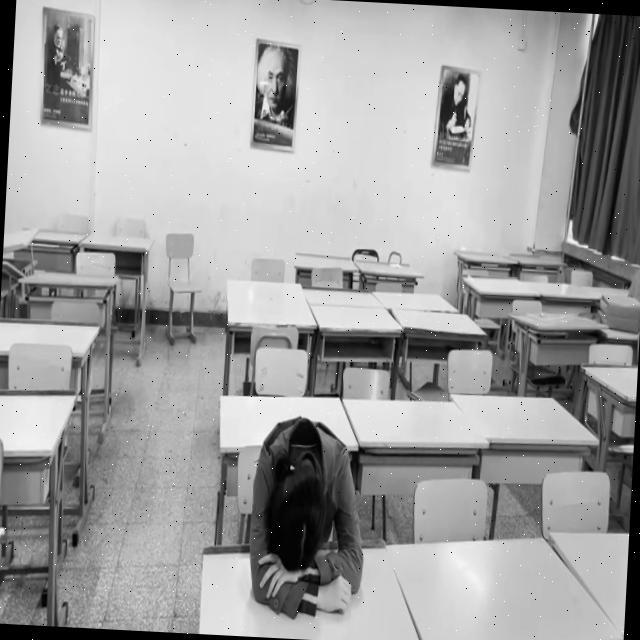sleep: (248, 420, 367, 611)
